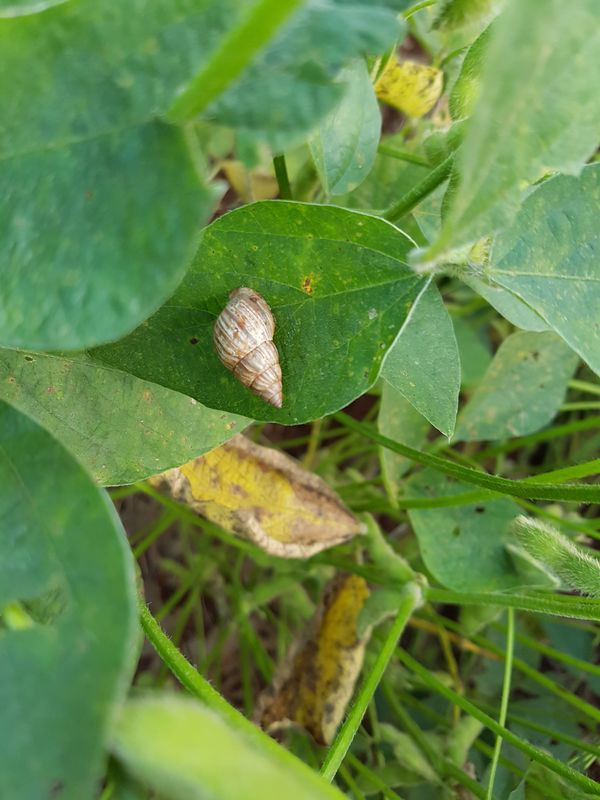Gastropoda: (189, 276, 312, 424)
